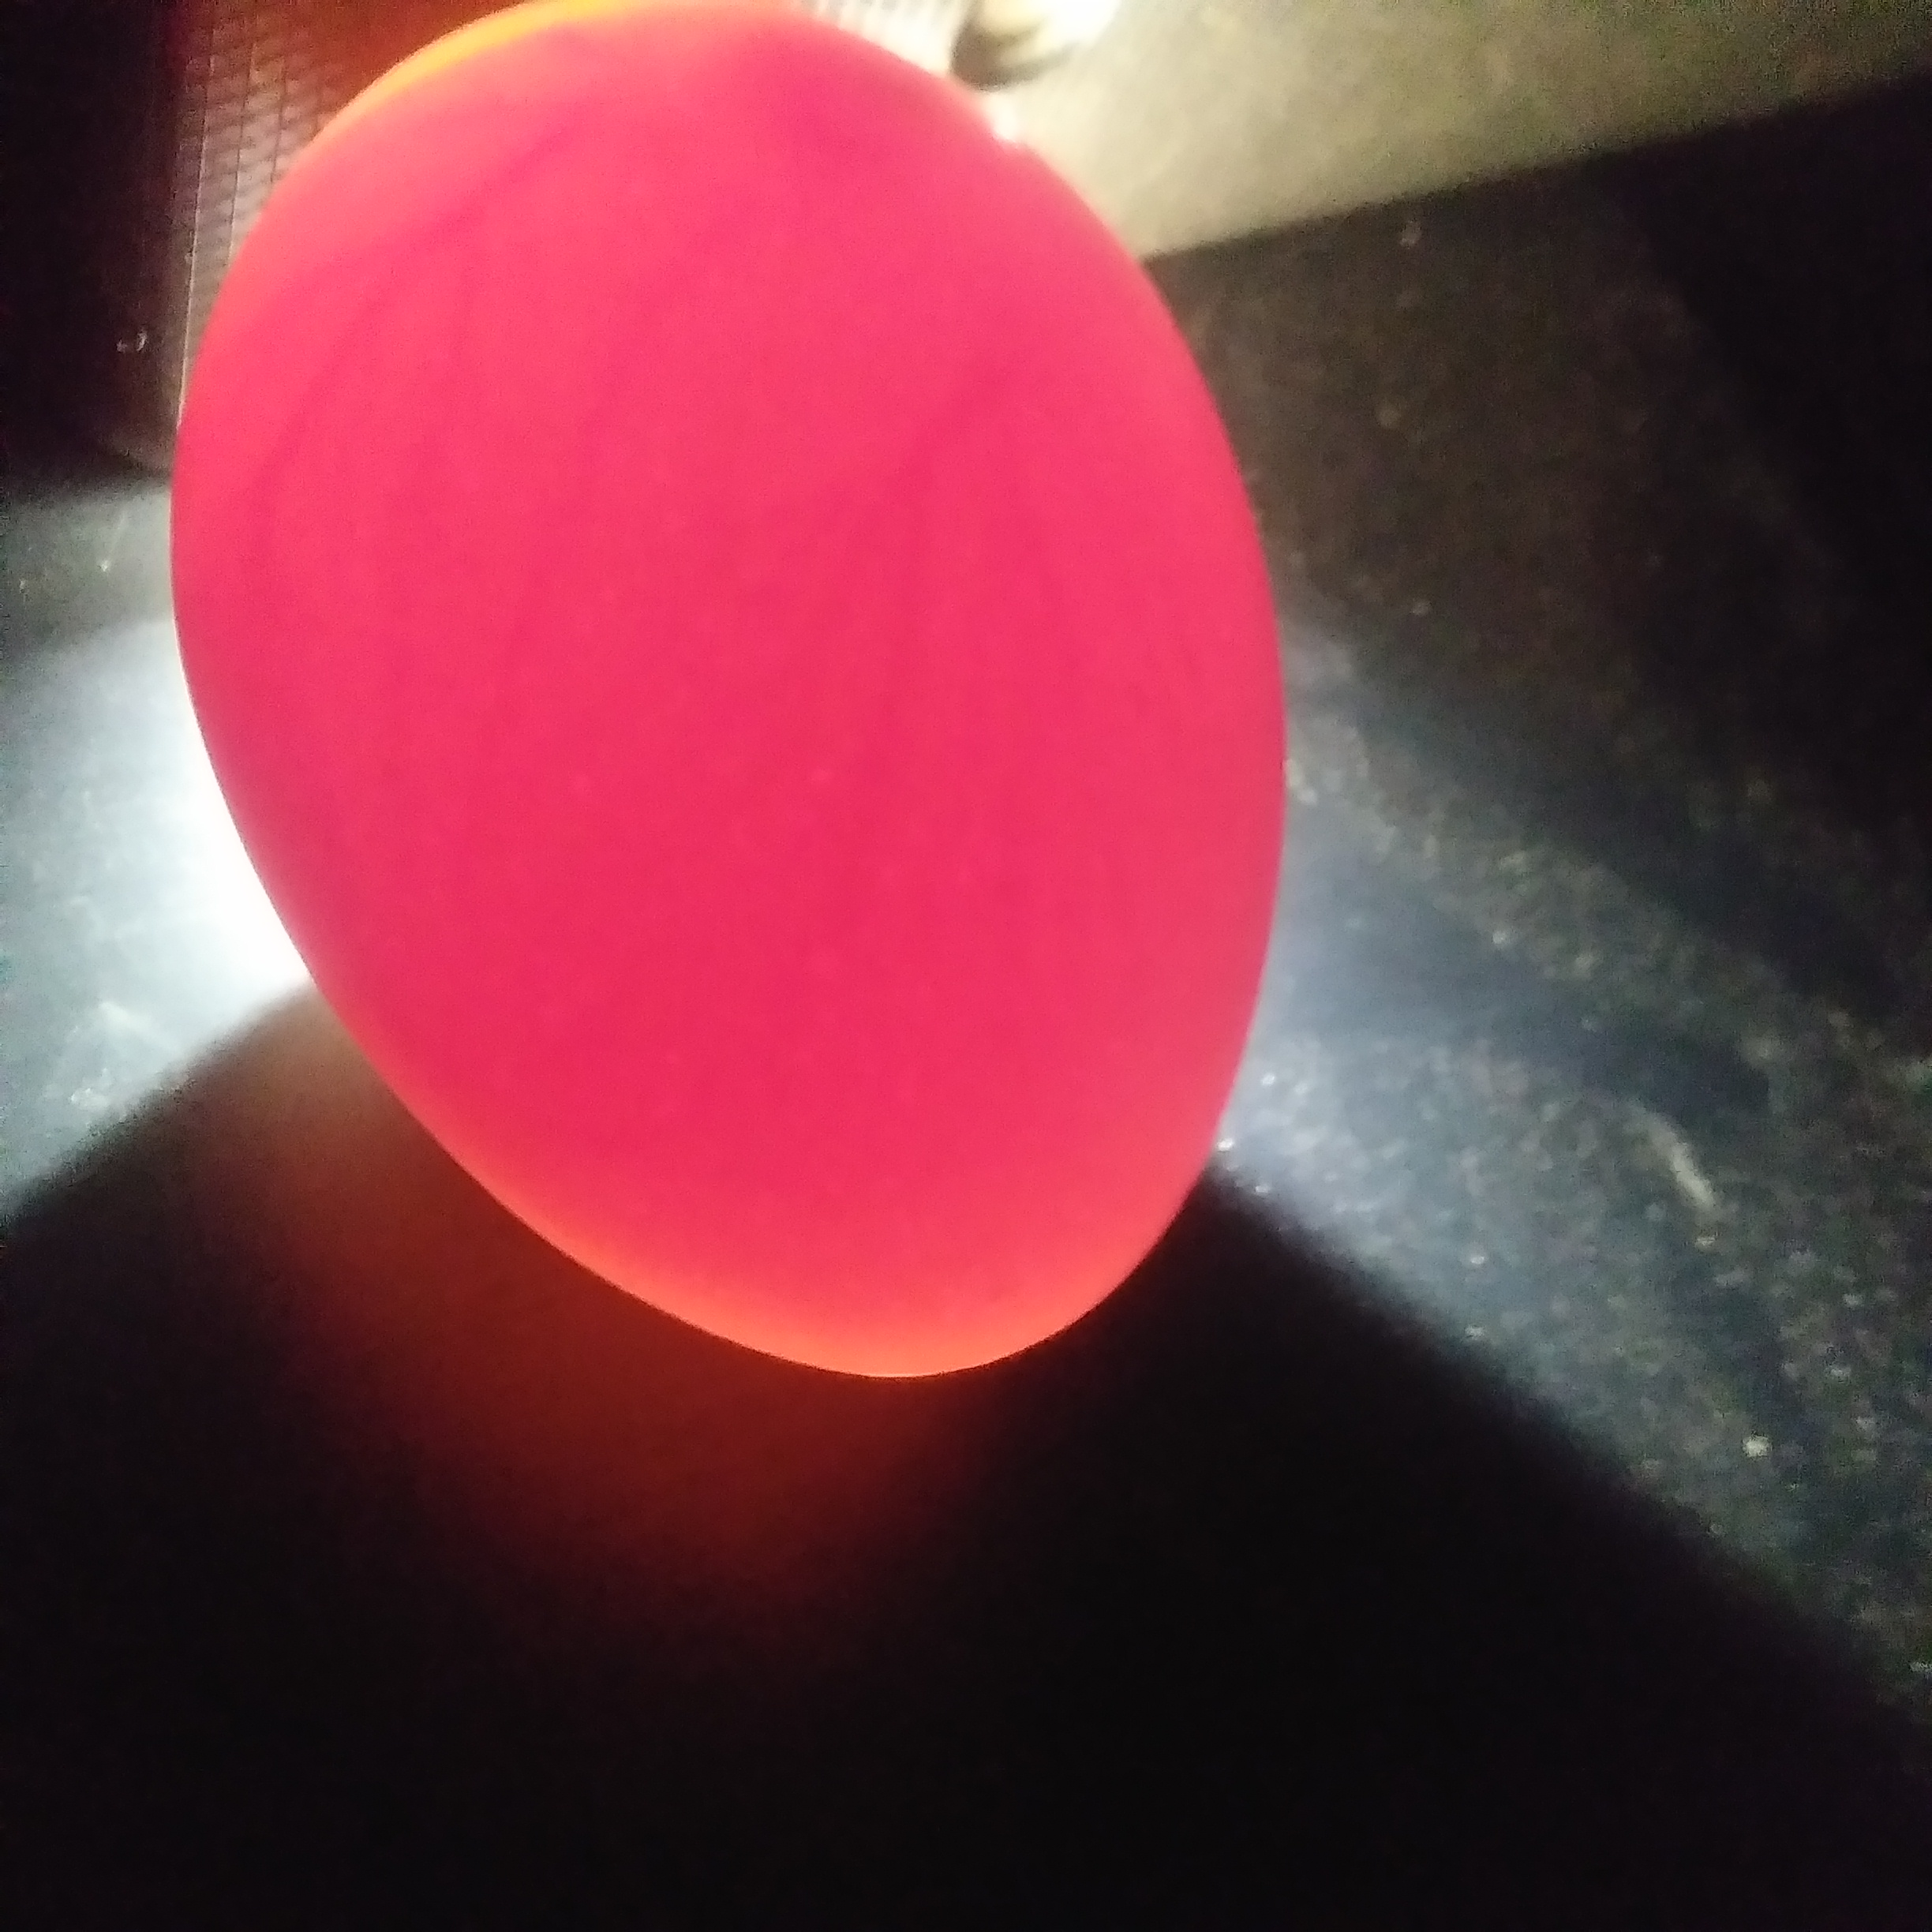bloodcell: (418, 218, 1065, 1035)
